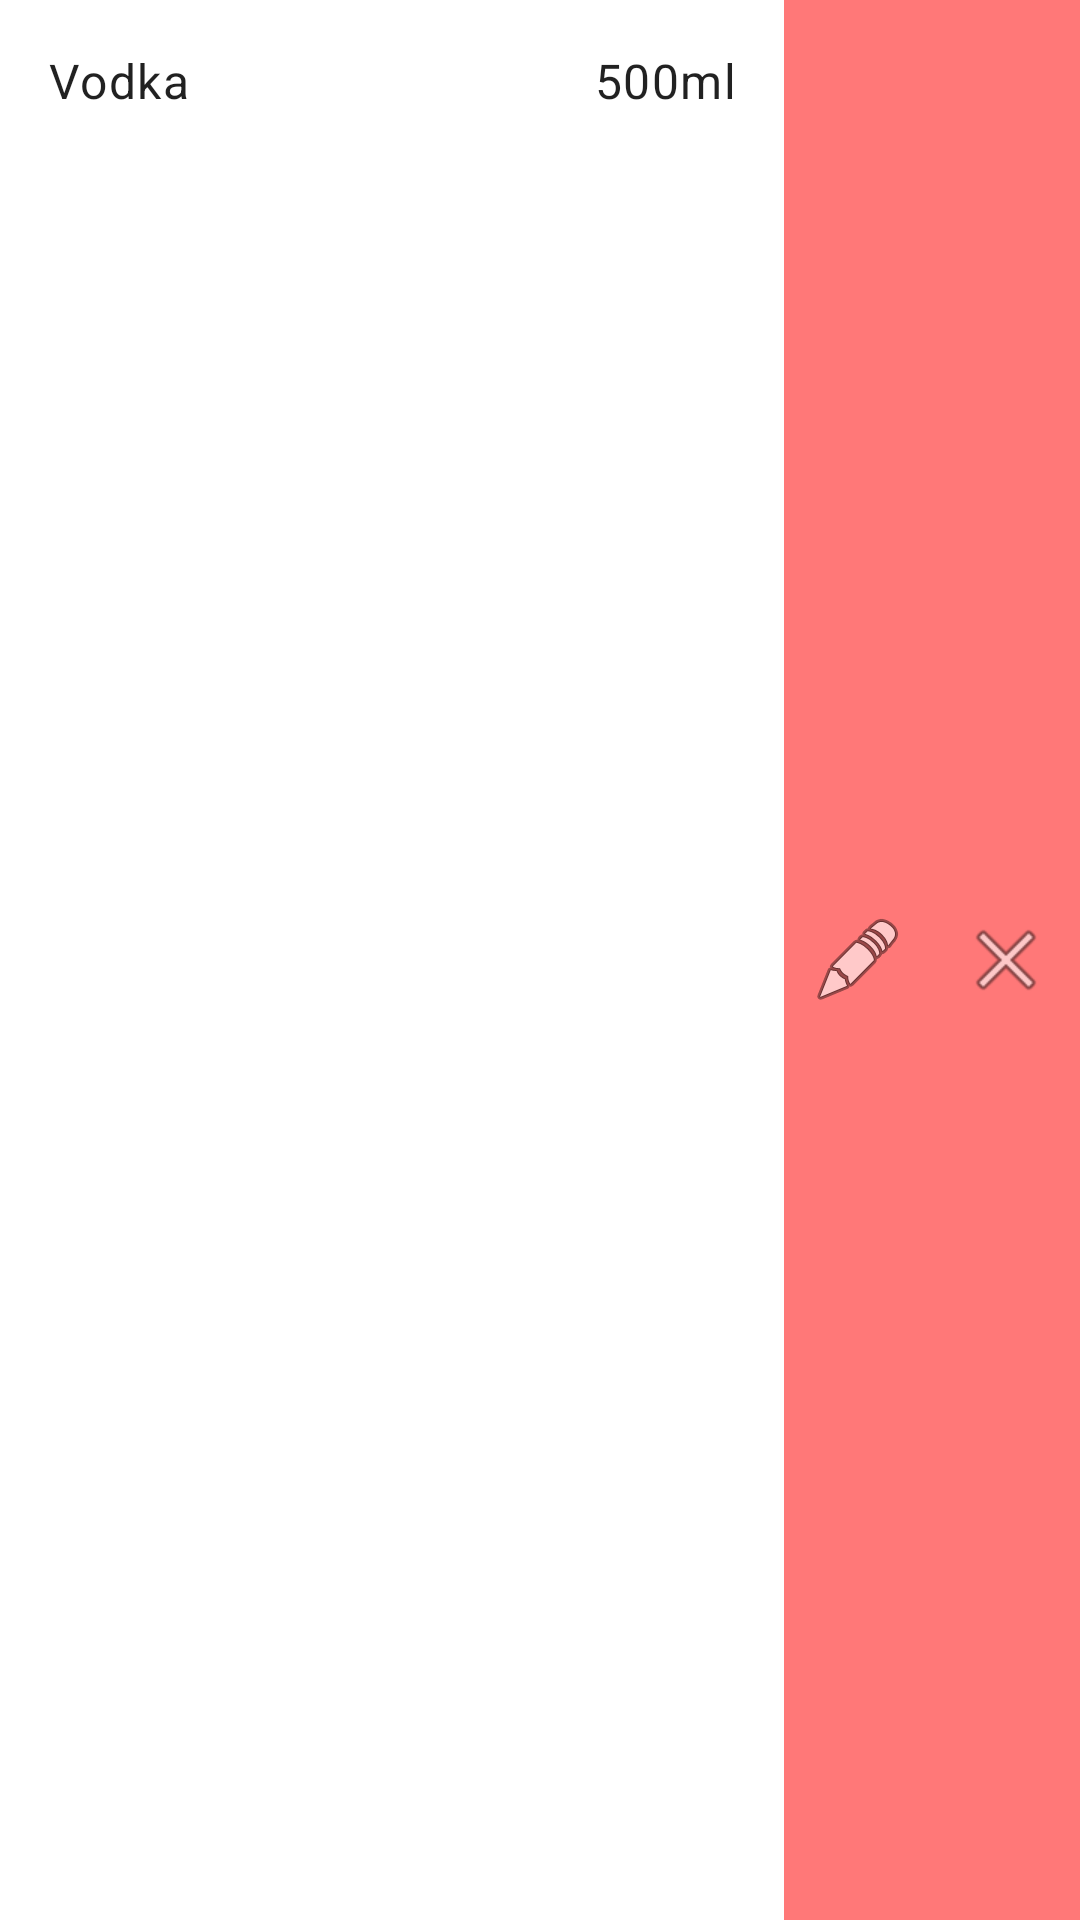

Named icons in this screenshot (1080×1920) and their centers, point (x, y):
close clear cancel: point (1006, 960)
edit: point (857, 959)
